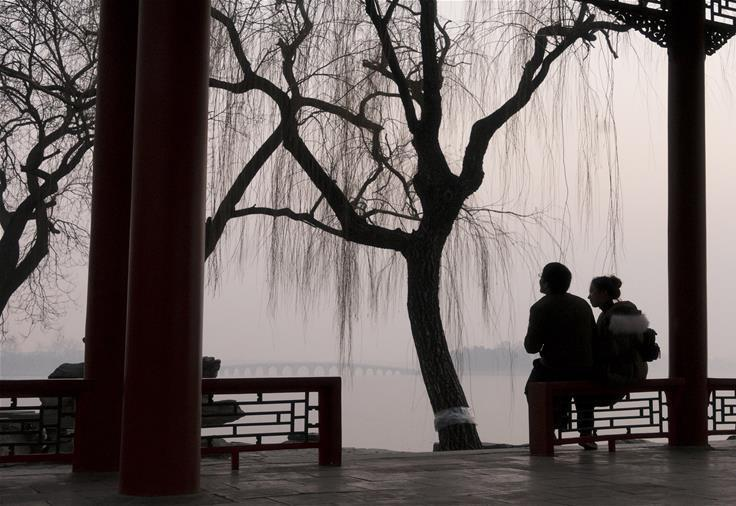person: (522, 258, 598, 452), (578, 273, 660, 451)
